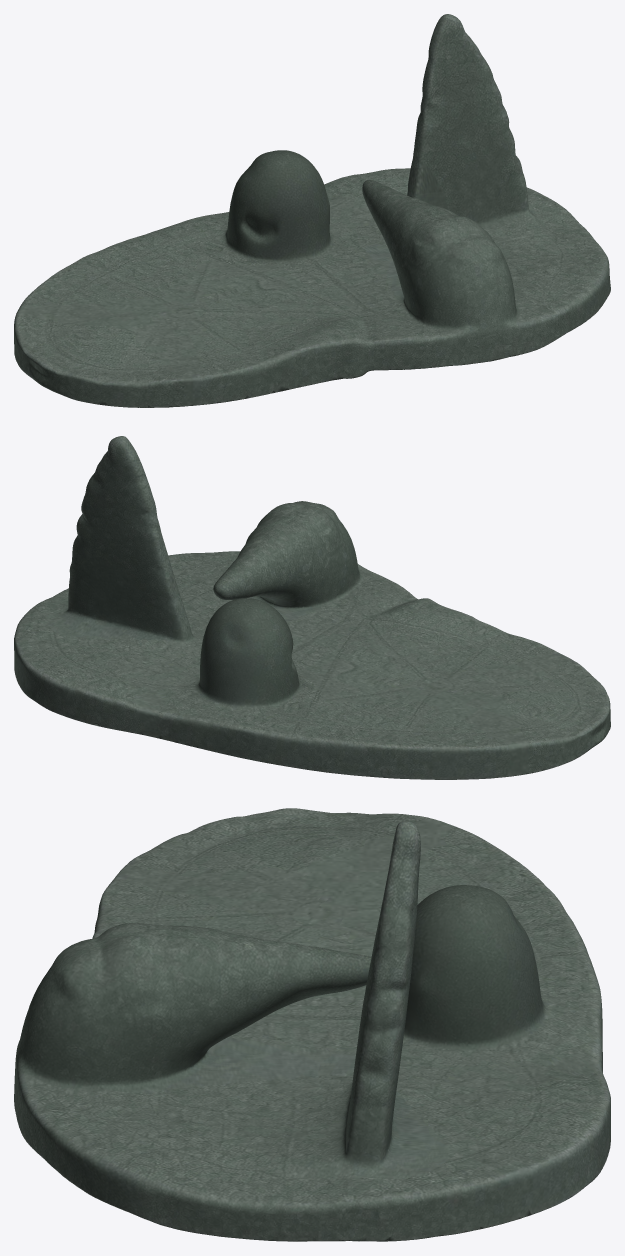
The model's file is fegato_etrusco.glb.
The picture shows the model from 3 angles, top to bottom: view 1: azimuth 30°, elevation 25°; view 2: azimuth 150°, elevation 25°; view 3: azimuth 270°, elevation 25°; orthographic projection. The views are drawn at different scales.
Size of the model in its own units: 0.126 by 0.0509 by 0.0794.
Materials: 1 (1 with a texture image).
